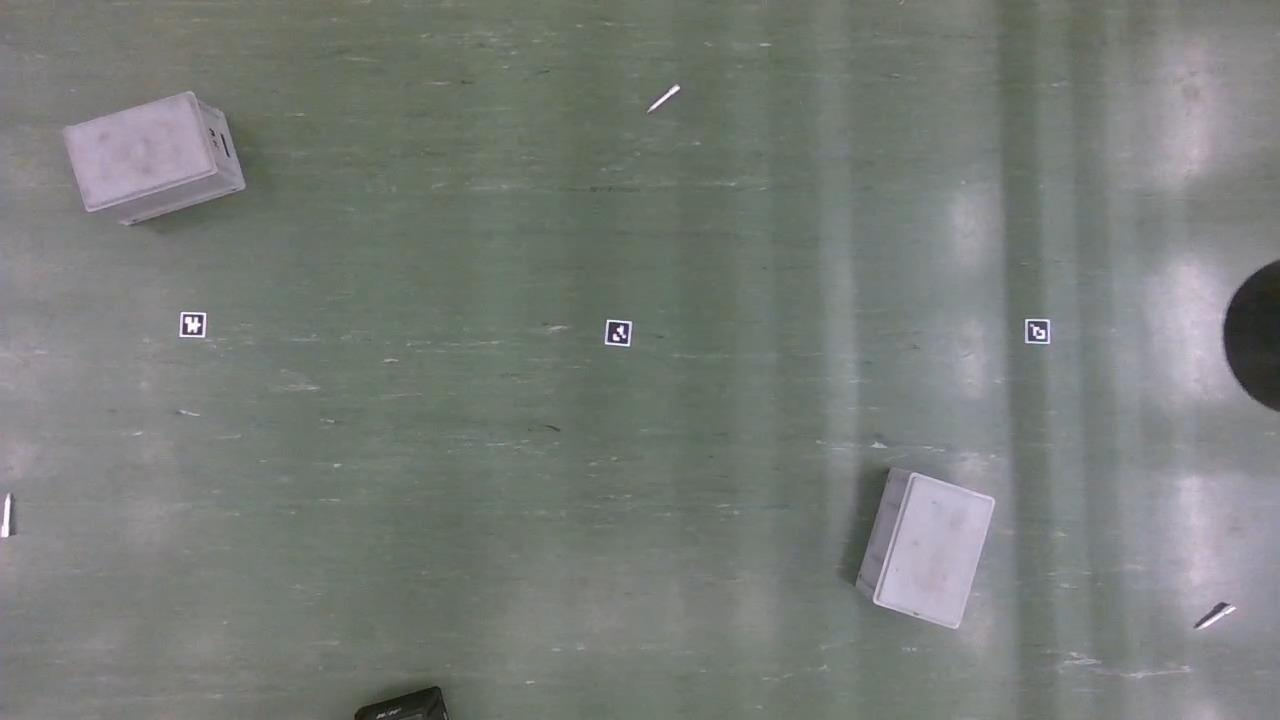probes: (1195, 602, 1233, 630), (649, 86, 680, 115), (0, 494, 12, 539)
rako: (63, 92, 245, 228), (854, 471, 995, 632)
